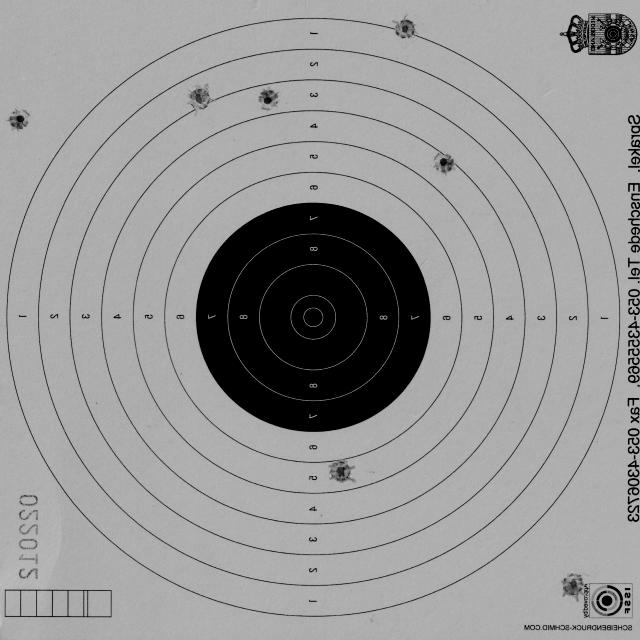0: (557, 571, 592, 603), (5, 106, 32, 134), (392, 14, 420, 41)
3: (184, 83, 217, 116), (257, 86, 280, 112)
4: (432, 151, 457, 176)
6: (329, 458, 358, 485)
Target: (4, 15, 622, 620)
black_contour: (196, 204, 432, 433)
